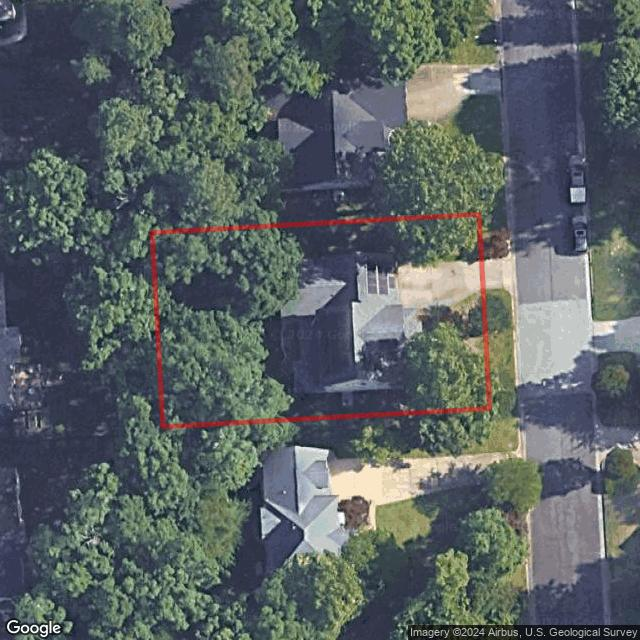Driveway: (397, 259, 484, 307)
Extra-Driveway: (483, 258, 513, 293)
Extra-Lawn: (483, 288, 517, 410), (478, 212, 508, 258)
House: (277, 252, 422, 394)
Lawn: (152, 215, 489, 426)
Other: (340, 390, 356, 408)
